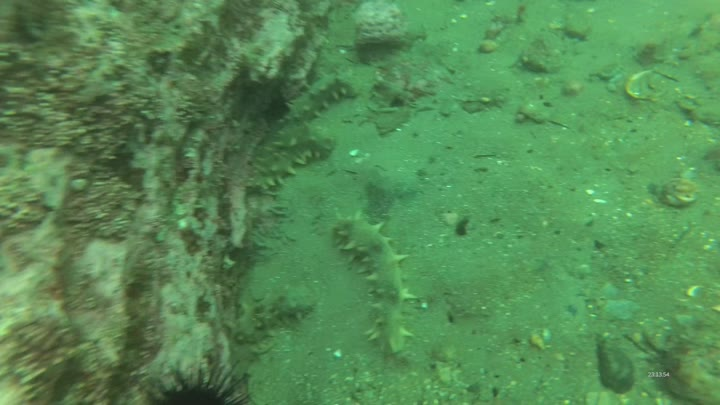echinus: (141, 355, 256, 405)
holothurian: (331, 214, 420, 356), (247, 122, 335, 194), (232, 286, 316, 349), (284, 66, 358, 129)
